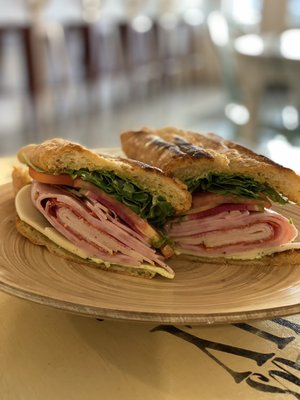burger: (0, 283, 297, 381)
soup: (13, 138, 192, 279), (117, 125, 299, 262)
